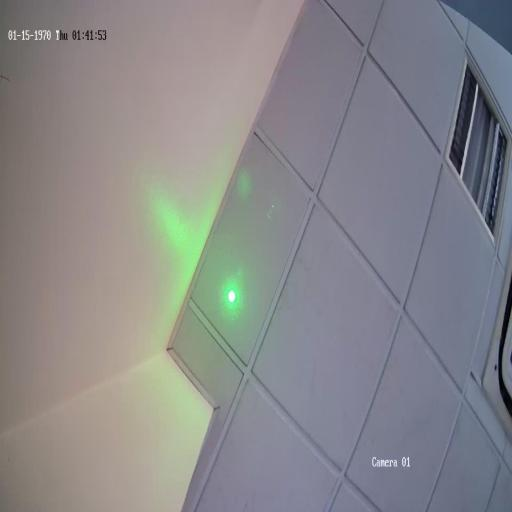laser: (220, 274, 244, 317)
